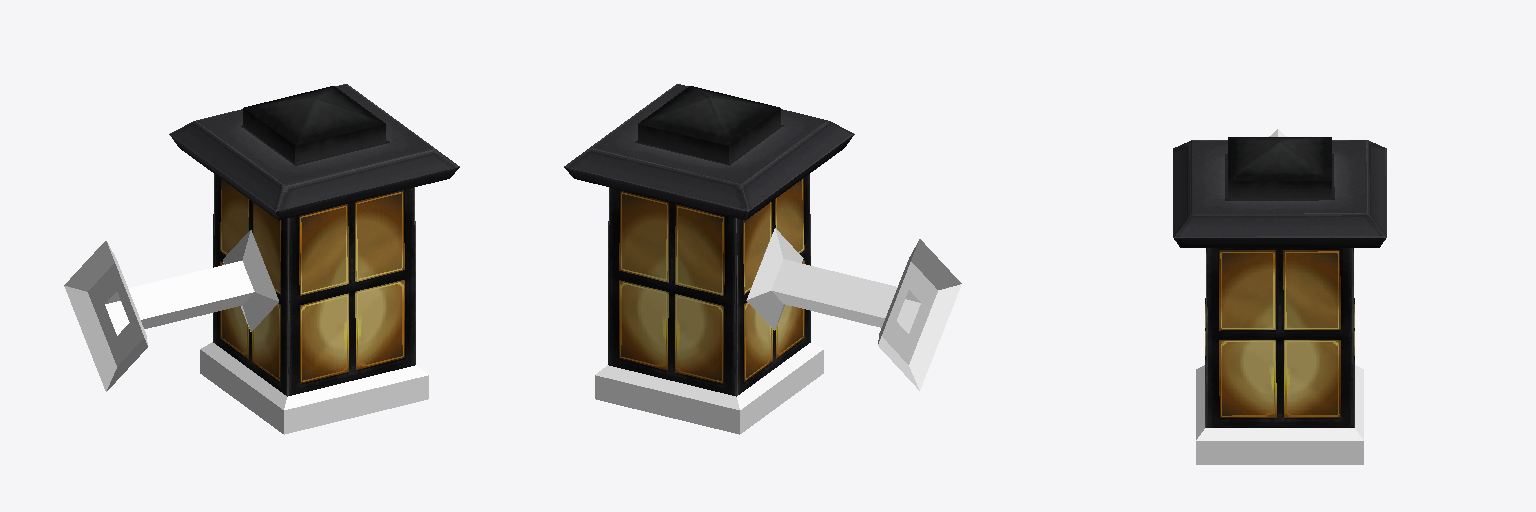
3 renders of one model, left to right at view 1: azimuth 30°, elevation 25°; view 2: azimuth 150°, elevation 25°; view 3: azimuth 270°, elevation 25°, orthographic.
Parts seen in each view (by area): view 1: base; view 2: base; view 3: base.
Part boxes in pixels (x1,y1,x2,y2): base: (64,84,459,434); base: (564,84,961,434); base: (1173,129,1386,464).
Bounding box in the file's own units: 4.16 × 3.81 × 2.54.
1 materials, 1 textured.